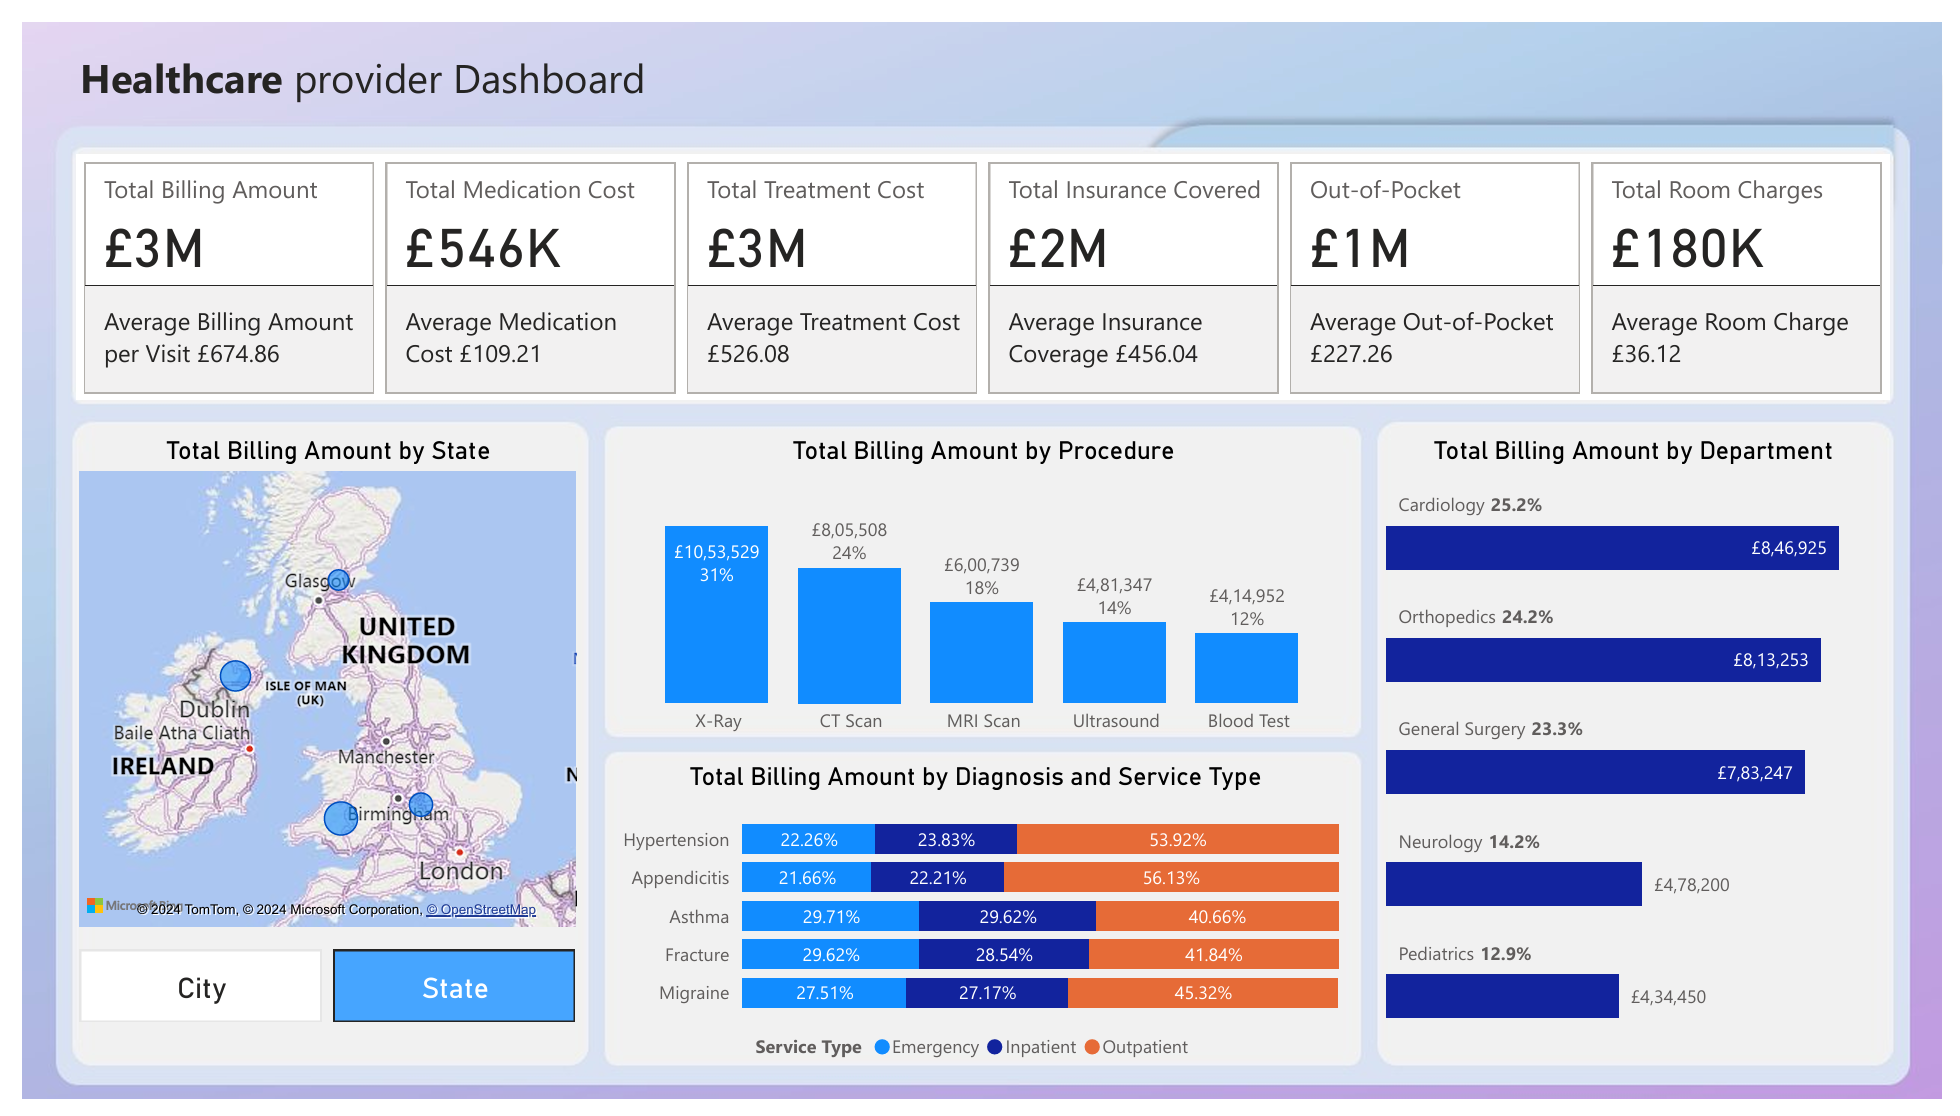

Layout of this report page (visuals, bound fields, positions):
{"tool":"powerbi","page":{"name":"Page 2","canvas":[1280,720],"ordinal":1},"visuals":[{"type":"cardVisual","fields":{"Data":["DAX Calculation.Total Billing Amount","DAX Calculation.Total Medication Cost","DAX Calculation.Total Treatment Cost","DAX Calculation.Total Insurance Covered","DAX Calculation.Out-of-Pocket","DAX Calculation.Total Room Charges"]},"box":[35.6,87.8,1209.9,164.2],"z":0},{"type":"map","fields":{"Category":["cities.State"],"Size":["DAX Calculation.Total Billing Amount"]},"box":[33.5,275,340.9,332.5],"z":1000},{"type":"advancedSlicerVisual","fields":{"Values":["Patients Location Switch.Patients Location Switch"]},"box":[33.5,612.8,340.9,58.6],"z":2000},{"type":"clusteredColumnChart","fields":{"Category":["procedures.Procedure"],"Y":["DAX Calculation.Total Billing Amount"]},"box":[388,275,505.1,209.2],"z":3000},{"type":"hundredPercentStackedBarChart","fields":{"Y":["DAX Calculation.Total Billing Amount"],"Category":["diagnoses.Diagnosis"],"Series":["visits.Service Type"]},"box":[388,491.5,493.6,209.2],"z":4000},{"type":"clusteredBarChart","title":"Total Billing Amount by Department","fields":{"Category":["departments.Department"],"Y":["DAX Calculation.Blank Measure","DAX Calculation.Total Billing Amount"]},"box":[903.5,275,339.9,396.3],"z":5000},{"type":"textbox","box":[33.5,12.5,449.7,53.3],"z":6000}]}

Visuals, with their boxes in screenshot pixels (x1, y1, x2, y2), scaled from the page's 1280x720 canvas onto the 1960x1116 screenshot:
cardVisual - DAX Calculation.Total Billing Amount x DAX Calculation.Total Medication Cost: x1=55 y1=136 x2=1907 y2=391
map - cities.State x DAX Calculation.Total Billing Amount: x1=51 y1=426 x2=573 y2=942
advancedSlicerVisual - Patients Location Switch.Patients Location Switch: x1=51 y1=950 x2=573 y2=1041
clusteredColumnChart - procedures.Procedure x DAX Calculation.Total Billing Amount: x1=594 y1=426 x2=1368 y2=751
hundredPercentStackedBarChart - DAX Calculation.Total Billing Amount x diagnoses.Diagnosis: x1=594 y1=762 x2=1350 y2=1086
"Total Billing Amount by Department" clusteredBarChart: x1=1383 y1=426 x2=1904 y2=1041
textbox: x1=51 y1=19 x2=740 y2=102
